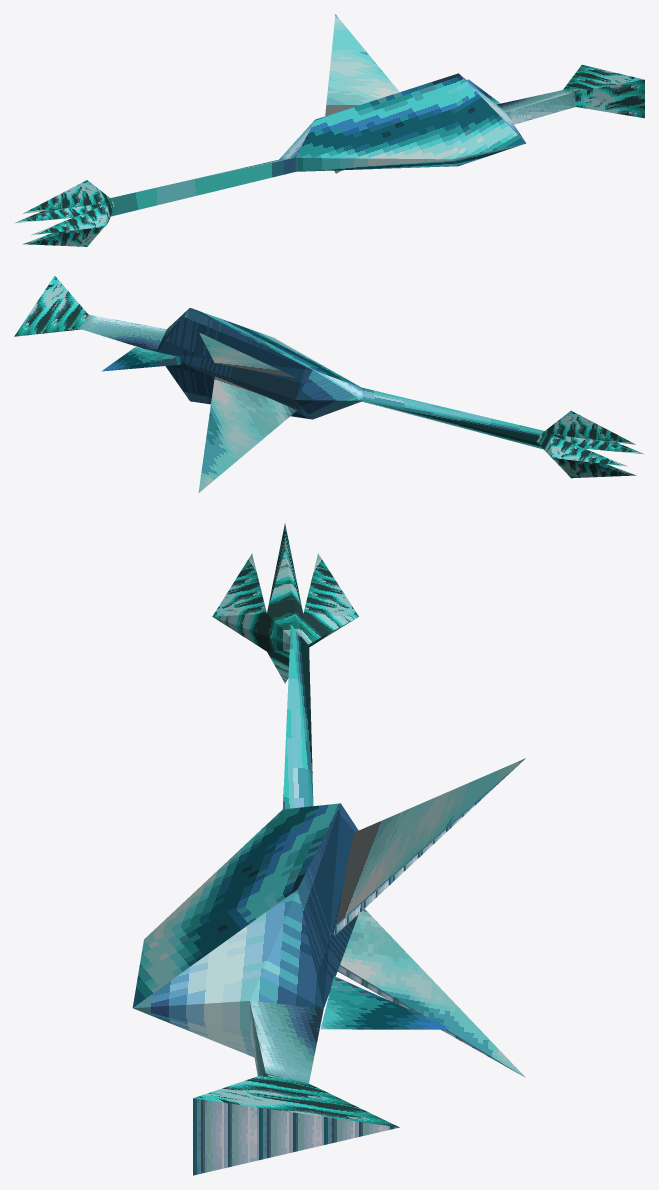
File: 15-farsight-xr-20-tp.glb
The picture shows the model from 3 angles, top to bottom: view 1: azimuth 30°, elevation 25°; view 2: azimuth 150°, elevation 25°; view 3: azimuth 270°, elevation 25°; orthographic projection. The views are drawn at different scales.
Parts seen in each view (by area): view 1: gun; view 2: gun; view 3: gun.
Part boxes in pixels (x1,y1,x2,y2): gun: (14,14,644,246); gun: (14,275,644,493); gun: (132,523,525,1175).
Size of the model in its own units: 1463 by 373 by 416.
Materials: 9 (9 with a texture image).
